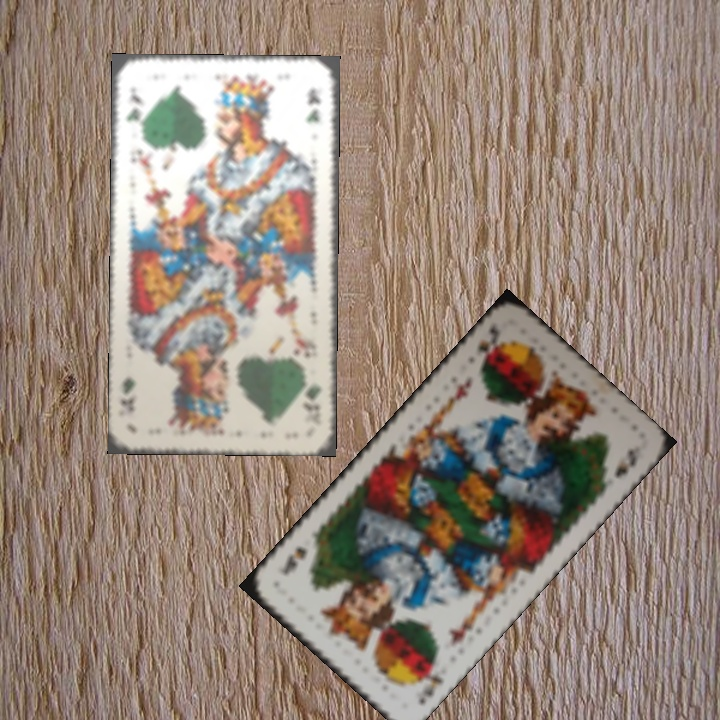GK: (122, 82, 145, 138), (301, 370, 325, 404)
SK: (409, 667, 447, 708), (473, 321, 505, 369)
